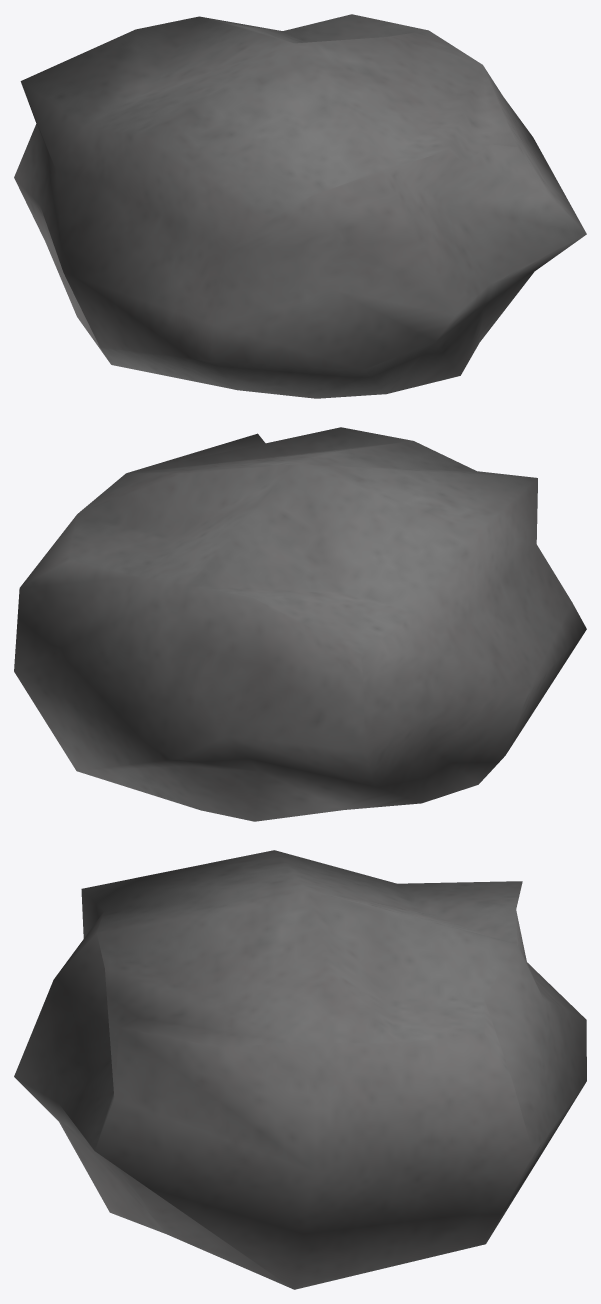
The model's file is Rubble_Rock_2.fbx.
3 renders of one model, top to bottom at view 1: azimuth 30°, elevation 25°; view 2: azimuth 150°, elevation 25°; view 3: azimuth 270°, elevation 25°, orthographic. The views are drawn at different scales.
Visible parts, largest first — view 1: Cube.002; view 2: Cube.002; view 3: Cube.002.
Part boxes in pixels (x1,y1,x2,y2): Cube.002: [14, 14, 586, 398]; Cube.002: [14, 427, 586, 821]; Cube.002: [14, 850, 586, 1289].
Size of the model in its own units: 35.13 by 22.69 by 35.8.
